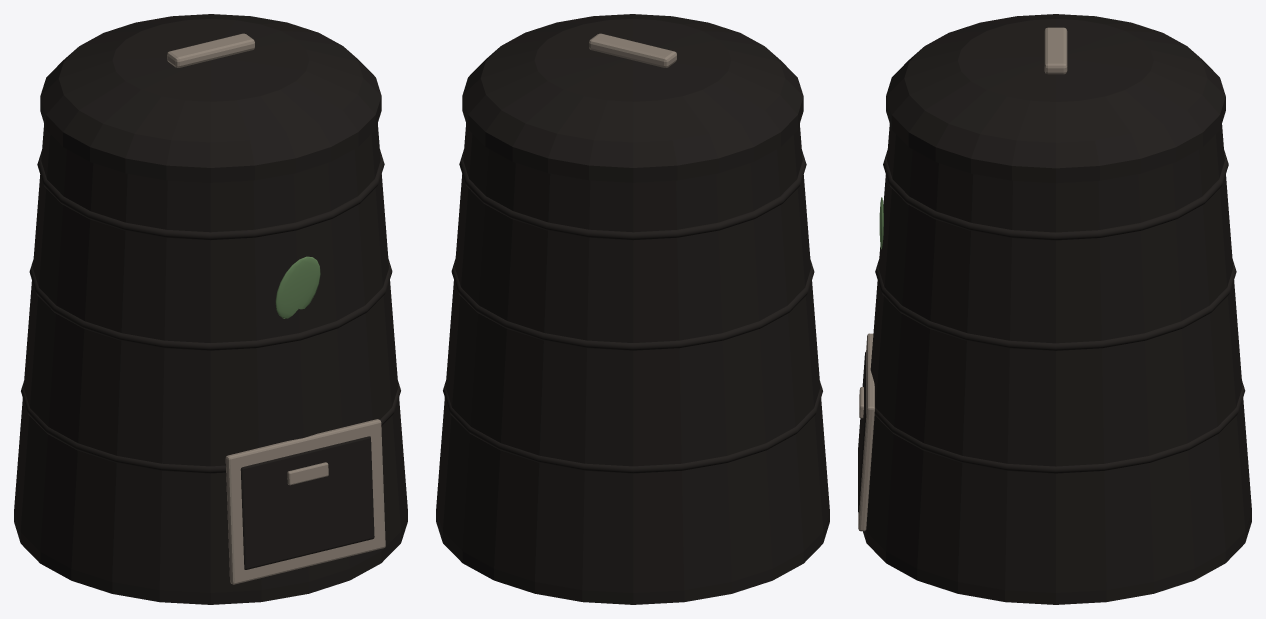
File: hh_cat_compost_bin.glb
3 renders of one model, left to right at view 1: azimuth 30°, elevation 25°; view 2: azimuth 150°, elevation 25°; view 3: azimuth 270°, elevation 25°, orthographic.
Visible parts, largest first — view 1: bin_body, lid, hatch, hatch_frame, rib.002, rib.001, leaf_badge, rib, lid_handle, hatch_pull; view 2: bin_body, lid, rib.002, rib.001, rib, lid_handle; view 3: bin_body, lid, rib.002, rib.001, rib, hatch_frame, lid_handle, hatch.
Part boxes in pixels (x1,y1,x2,y2): bin_body: (14,123,407,604); lid: (40,14,381,182); hatch: (240,436,374,569); hatch_frame: (225,419,385,584); rib.002: (37,150,384,240); rib.001: (29,259,392,350); leaf_badge: (275,256,320,318); rib: (21,381,400,473); lid_handle: (167,33,254,67); hatch_pull: (287,462,328,485); bin_body: (436,123,829,604); lid: (462,14,803,182); rib.002: (459,150,806,240); rib.001: (451,259,814,350); rib: (443,381,822,473); lid_handle: (589,33,676,67); bin_body: (863,124,1251,604); lid: (886,14,1225,183); rib.002: (883,150,1228,240); rib.001: (875,259,1236,350); rib: (874,381,1245,473); hatch_frame: (858,333,874,531); lid_handle: (1044,27,1067,74); hatch: (858,351,866,512).
Bounding box in the file's own units: 0.6 × 0.8 × 0.6.
